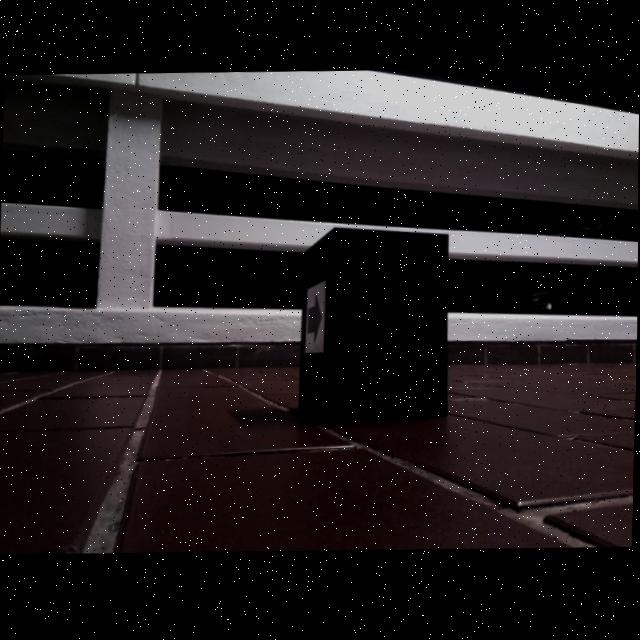RIGHT: (308, 297, 322, 347)
